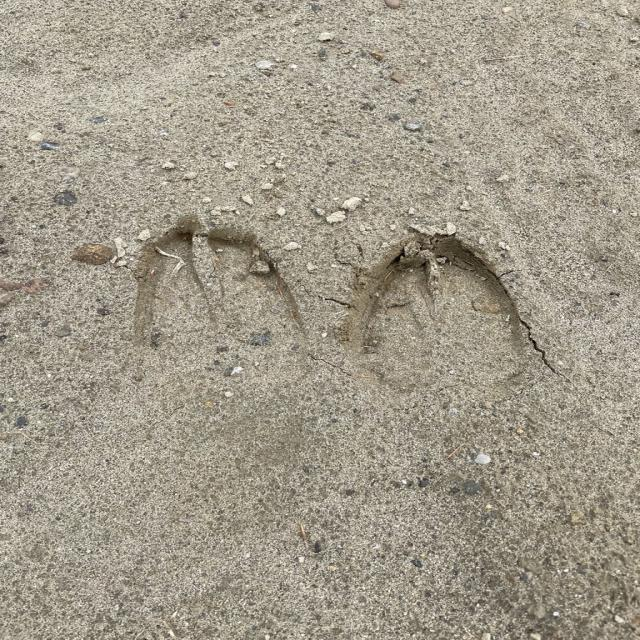deer: (340, 232, 552, 402), (122, 223, 318, 385)
